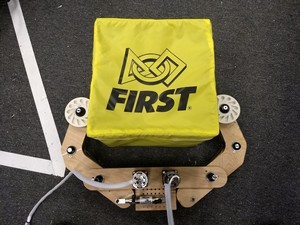cube: (93, 20, 218, 154)
